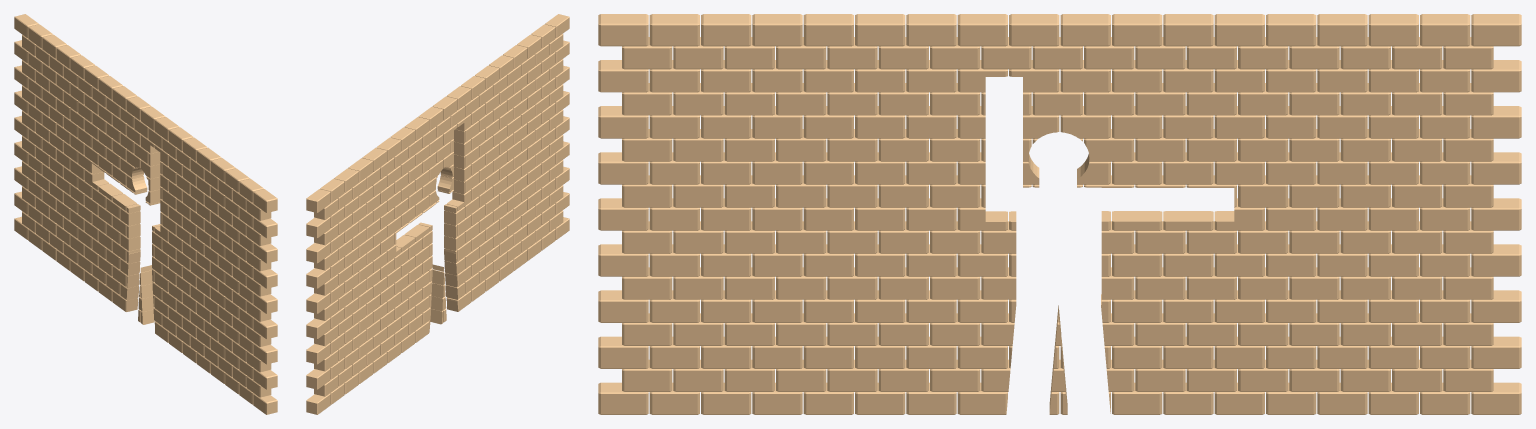
Rendered from jposewall.fbx.
The picture shows the model from 3 angles, left to right: view 1: azimuth 30°, elevation 25°; view 2: azimuth 150°, elevation 25°; view 3: azimuth 270°, elevation 25°; orthographic projection. The views are drawn at different scales.
Visible parts, largest first — view 1: RudolphBrick; view 2: RudolphBrick; view 3: RudolphBrick.
Part boxes in pixels (<box>): RudolphBrick: <box>14,14,277,414</box>; RudolphBrick: <box>306,14,569,414</box>; RudolphBrick: <box>598,14,1521,414</box>.
Size of the model in its own units: 27.26 by 468 by 1000.
